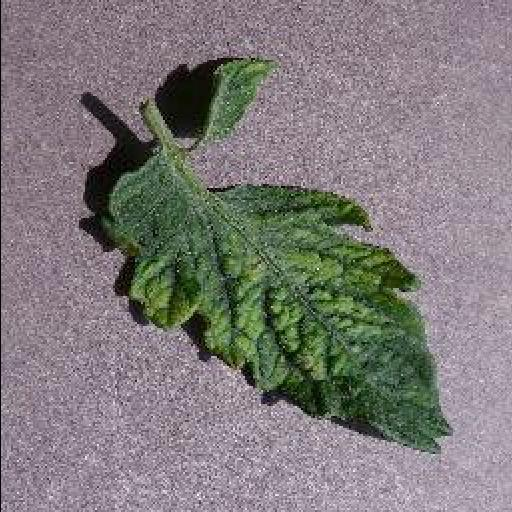disease_tomato: (99, 58, 457, 456)
